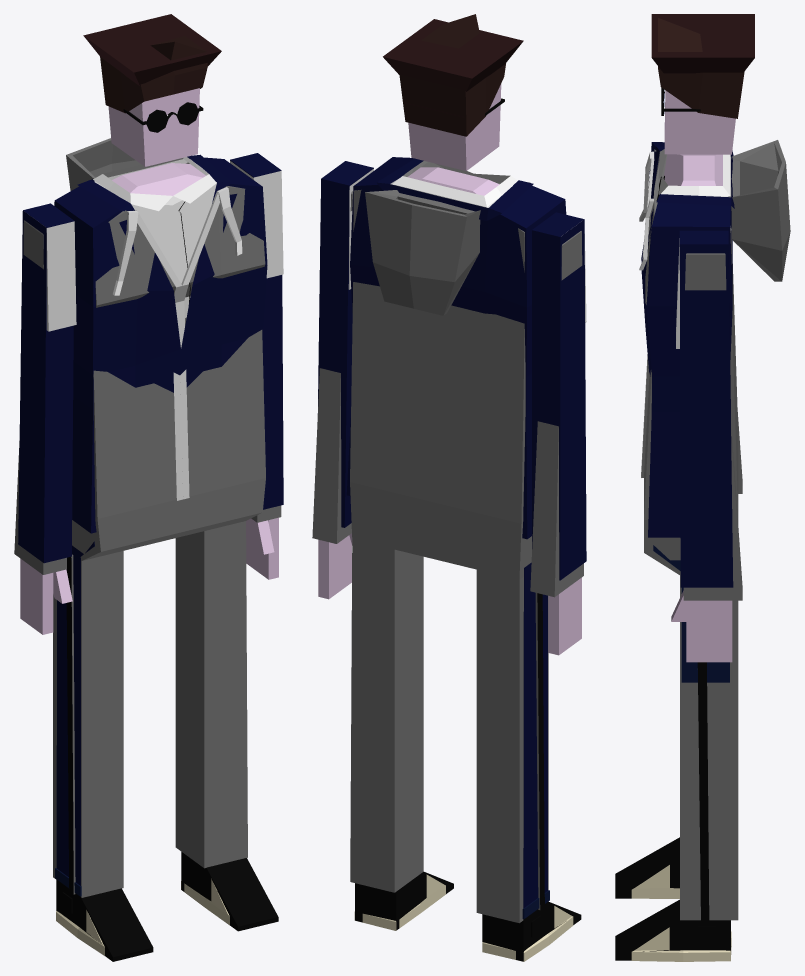
The model's file is man.glb.
3 views of the same model, side by side, from view 1: azimuth 30°, elevation 25°; view 2: azimuth 150°, elevation 25°; view 3: azimuth 270°, elevation 25° (orthographic).
Parts seen in each view (by area): view 1: man_sport, man_formal, man_body, man_casual, man_hair_3, man_hair_2, man_sunglasses; view 2: man_sport, man_formal, man_body, man_hair_2, man_hair_3, man_casual; view 3: man_formal, man_sport, man_body, man_hair_3, man_casual, man_hair_2.
Part boxes in pixels (box(x1,y1,x2,y2)): man_sport: box(14, 138, 281, 897); man_formal: box(18, 153, 283, 961); man_body: box(20, 88, 278, 634); man_casual: box(23, 159, 283, 955); man_hair_3: box(83, 14, 221, 86); man_hair_2: box(100, 36, 207, 113); man_sunglasses: box(123, 102, 203, 132); man_sport: box(312, 182, 583, 923); man_formal: box(317, 157, 586, 961); man_body: box(318, 84, 581, 655); man_hair_2: box(399, 14, 505, 136); man_hair_3: box(383, 19, 523, 91); man_casual: box(348, 169, 586, 961); man_formal: box(615, 142, 734, 960); man_sport: box(639, 140, 790, 921); man_body: box(664, 90, 735, 662); man_hair_3: box(651, 14, 754, 73); man_casual: box(631, 161, 731, 961); man_hair_2: box(658, 18, 744, 118).
Bounding box in the file's own units: 0.4937 × 1.74 × 0.3065.
